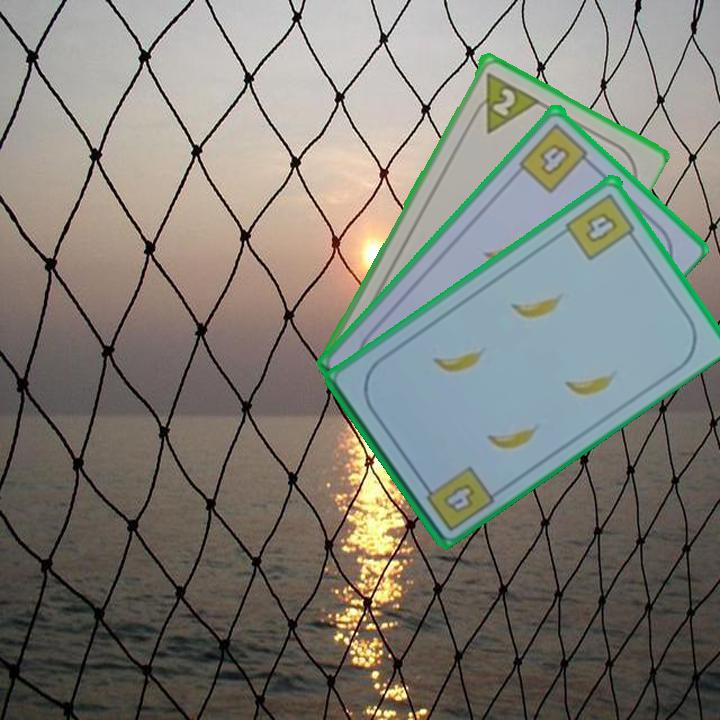2p: (465, 68, 540, 136)
4b: (515, 119, 596, 195), (562, 188, 641, 263), (416, 462, 497, 534)
